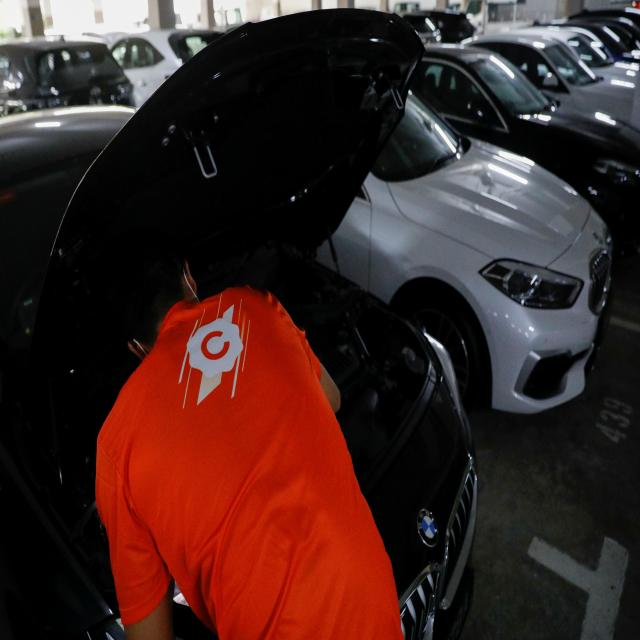car: (303, 37, 602, 466)
